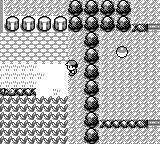captura: (1, 97, 68, 143)
main: (65, 61, 78, 75)
no-caminable: (68, 0, 131, 143), (4, 16, 67, 31)
poke-ball: (116, 47, 128, 57)
salto: (101, 120, 147, 127), (2, 88, 35, 95), (132, 24, 147, 32)
